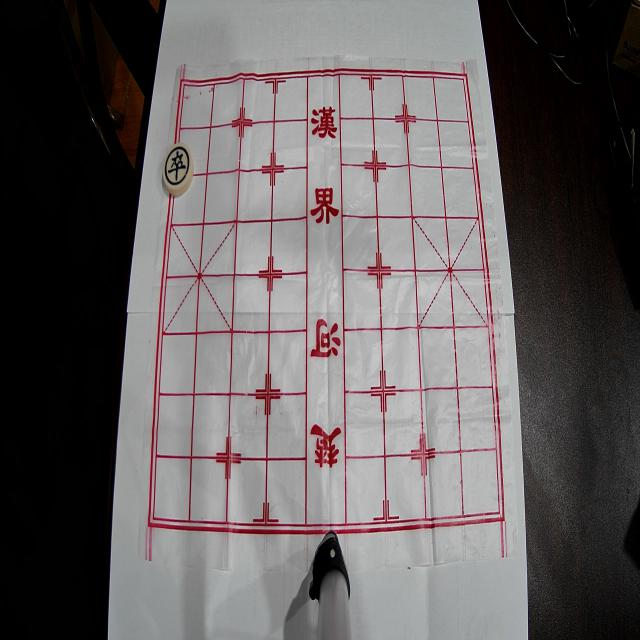black-soldier: (162, 143, 194, 196)
